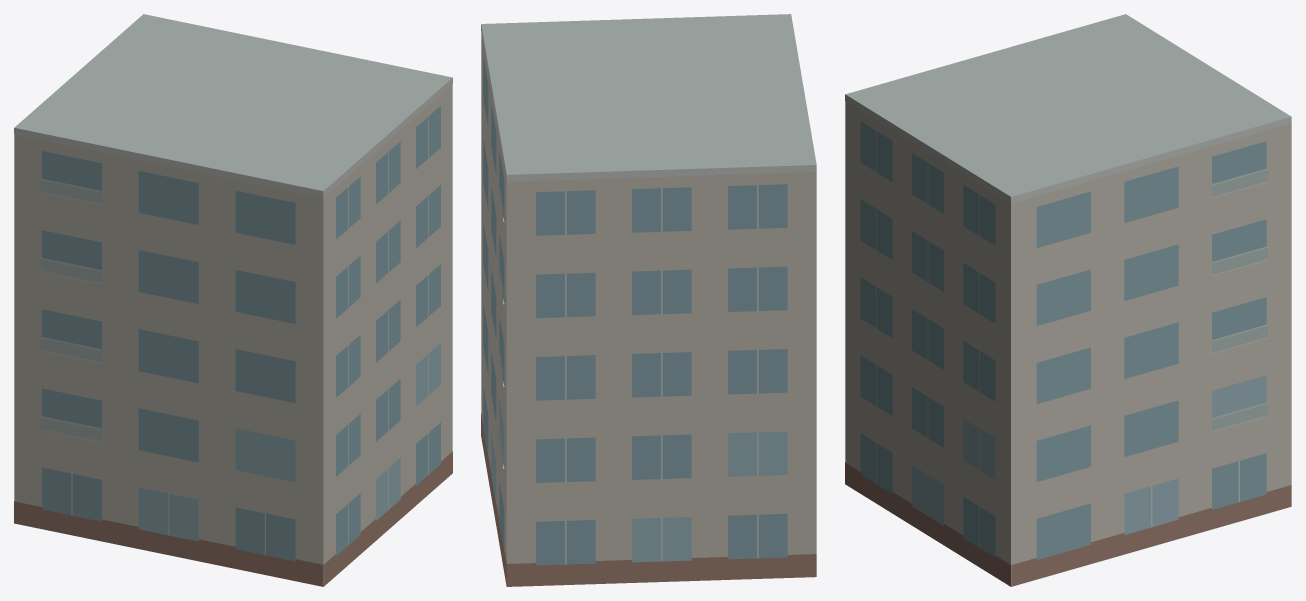
Rendered from survey-upis-32881687.glb.
3 views of the same model, side by side, from view 1: azimuth 30°, elevation 25°; view 2: azimuth 150°, elevation 25°; view 3: azimuth 270°, elevation 25° (orthographic). The views are drawn at different scales.
Parts seen in each view (by area): view 1: survey-upis-32881687.tmp; view 2: survey-upis-32881687.tmp; view 3: survey-upis-32881687.tmp.
Part boxes in pixels (bbox=[...]): survey-upis-32881687.tmp: bbox=[14, 14, 452, 586]; survey-upis-32881687.tmp: bbox=[481, 14, 816, 586]; survey-upis-32881687.tmp: bbox=[845, 14, 1291, 586].
Bounding box in the file's own units: 14.6 × 14.5 × 15.06.
